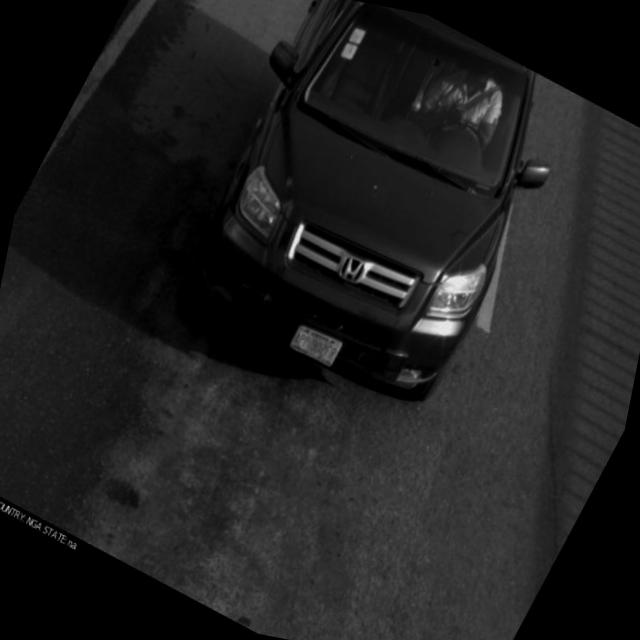person_with_seatbelt: (392, 52, 521, 176)
